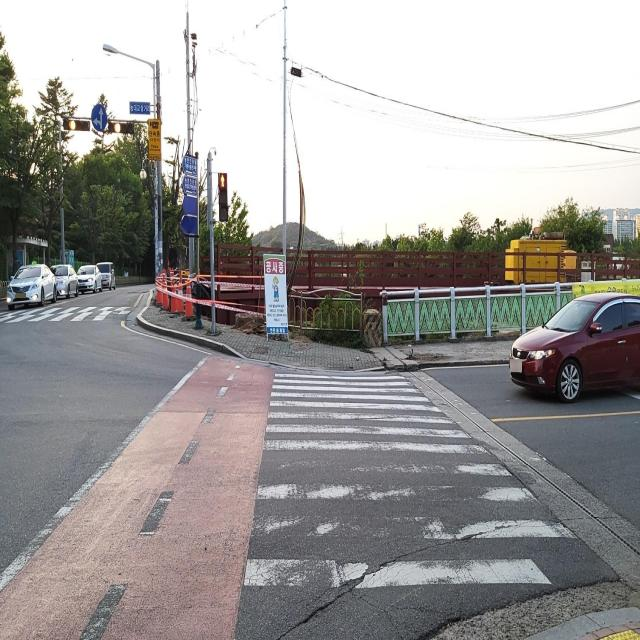빨간불: (218, 172, 230, 222)
횡단보도: (230, 354, 583, 640), (0, 298, 140, 324)
